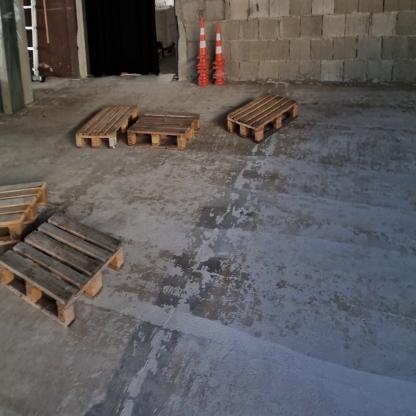BoxFace: (0, 204, 125, 338), (224, 85, 300, 150), (124, 103, 204, 157), (0, 176, 50, 249), (71, 101, 140, 153)
